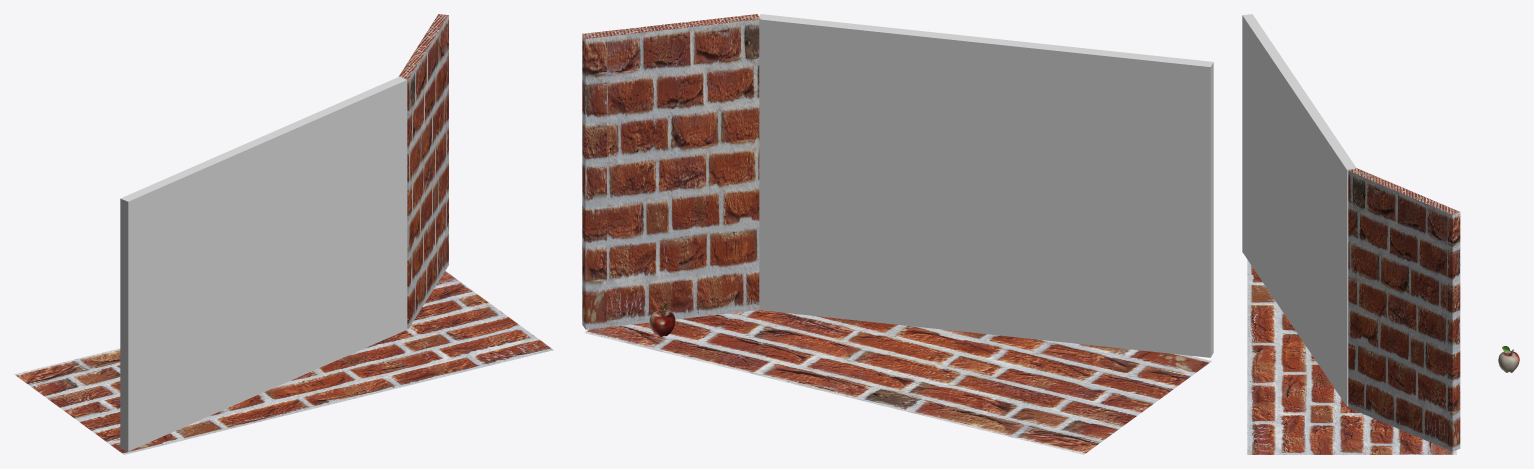
The picture shows the model from 3 angles, left to right: view 1: azimuth 30°, elevation 25°; view 2: azimuth 150°, elevation 25°; view 3: azimuth 270°, elevation 25°; orthographic projection. The views are drawn at different scales.
Visible parts, largest first — view 1: Wall.001, FloorObject, Wall; view 2: Wall.001, Wall, FloorObject; view 3: Wall, Wall.001, FloorObject, world.
Part boxes in pixels (<box>): Wall.001: <box>120,76,407,451</box>; FloorObject: <box>14,271,553,454</box>; Wall: <box>398,14,448,328</box>; Wall.001: <box>758,14,1213,357</box>; Wall: <box>582,14,760,329</box>; FloorObject: <box>584,310,1211,454</box>; Wall: <box>1348,168,1460,451</box>; Wall.001: <box>1242,14,1356,406</box>; FloorObject: <box>1247,260,1456,454</box>; world: <box>1498,346,1519,372</box>.
Bounding box in the file's own units: 9.1 × 5.1 × 5.3.
Materials: 4 (3 with a texture image).
